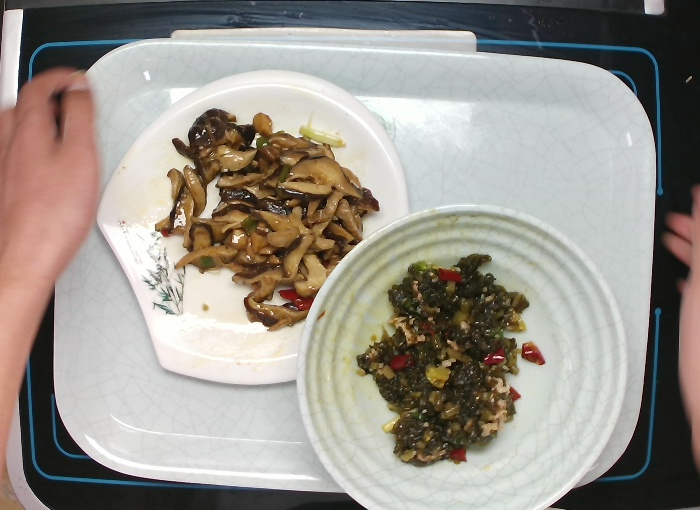JYsf-Da_Tang_Wan: (293, 198, 634, 510)
JYsf-Mian_Pan: (92, 64, 415, 391)
